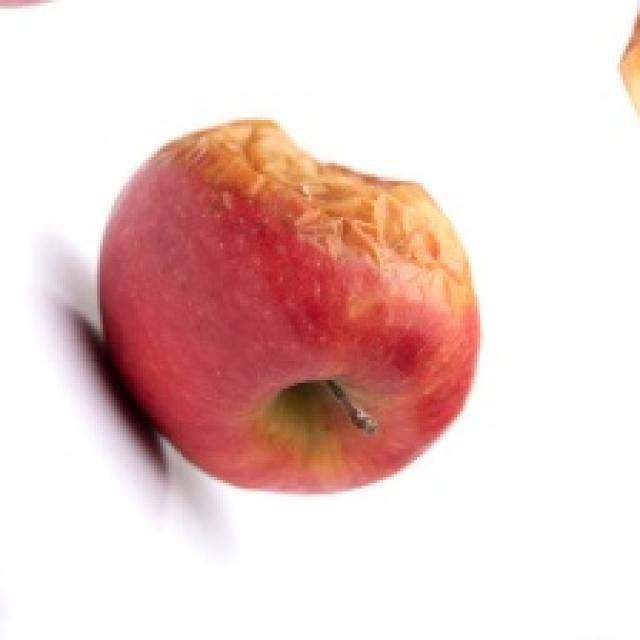rotten_apple: (99, 118, 476, 488)
